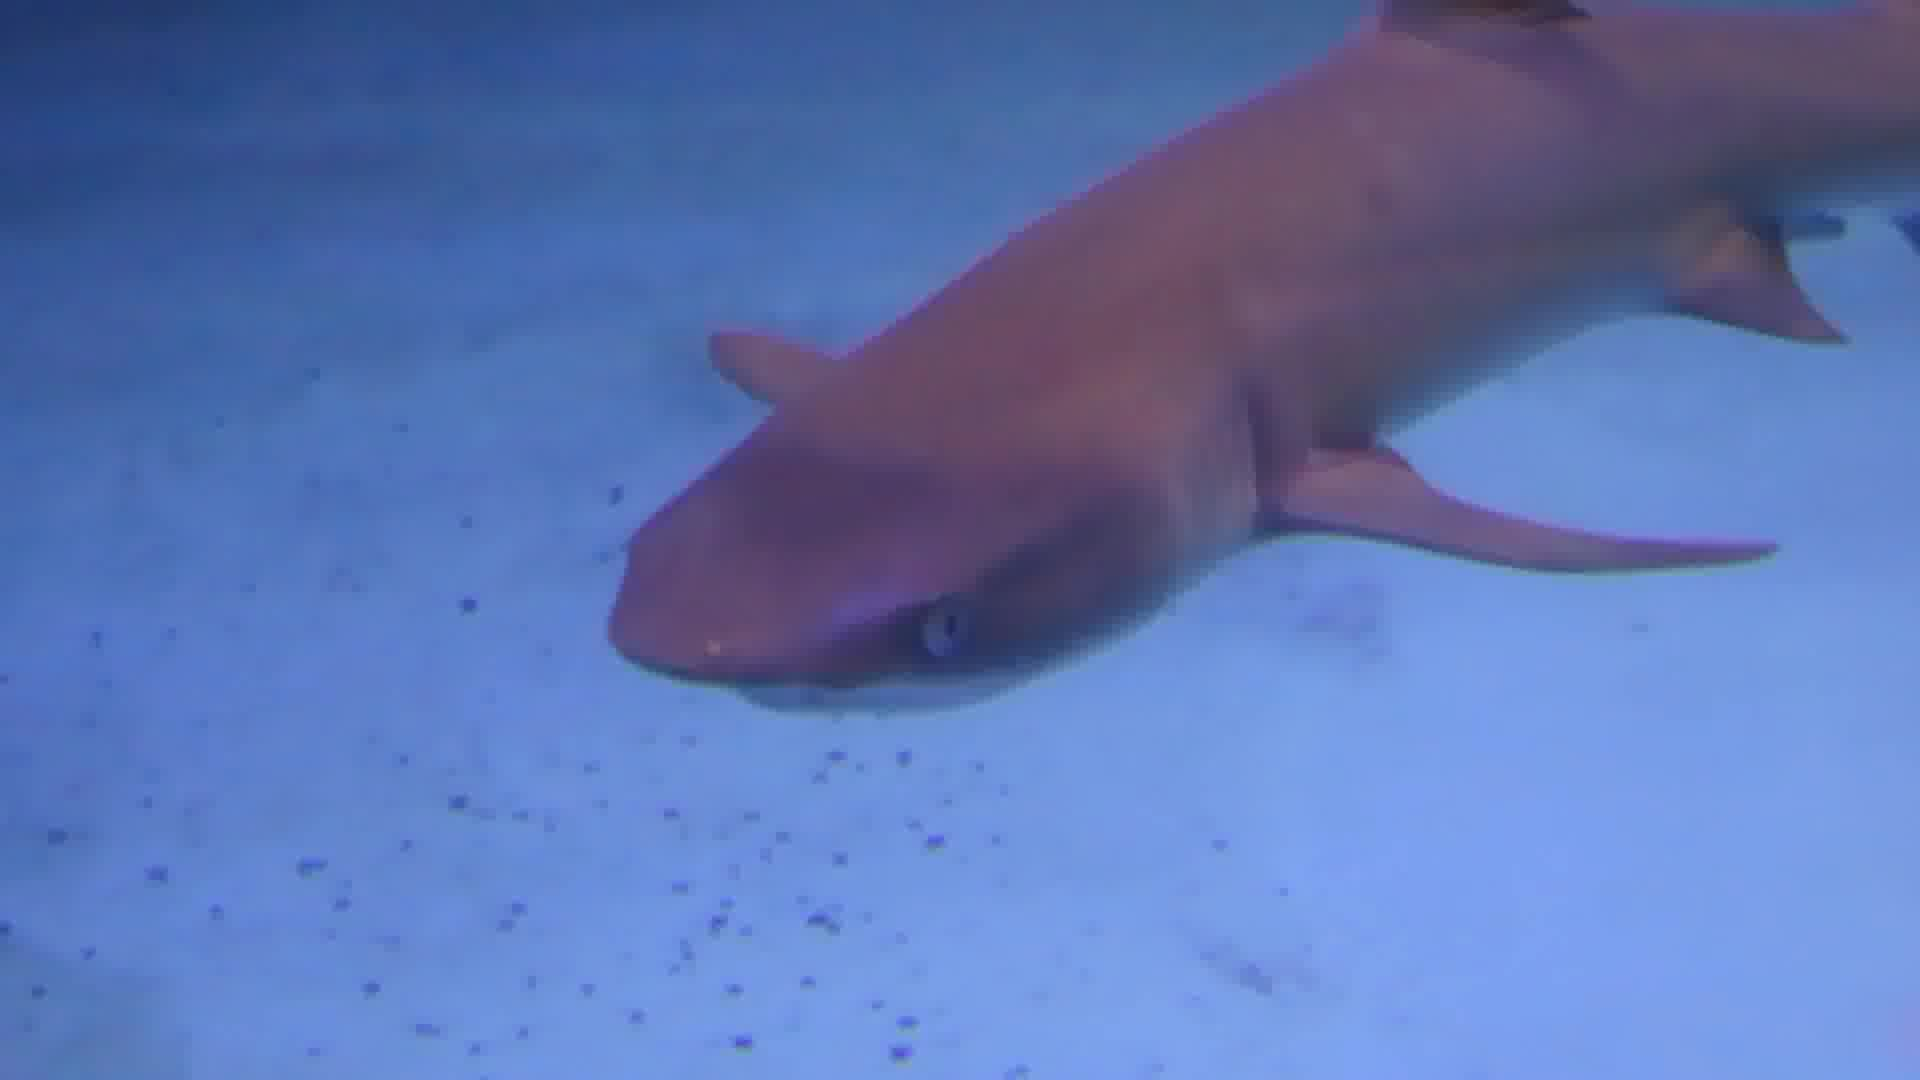Triaenodon obesus: (585, 4, 1909, 719)
